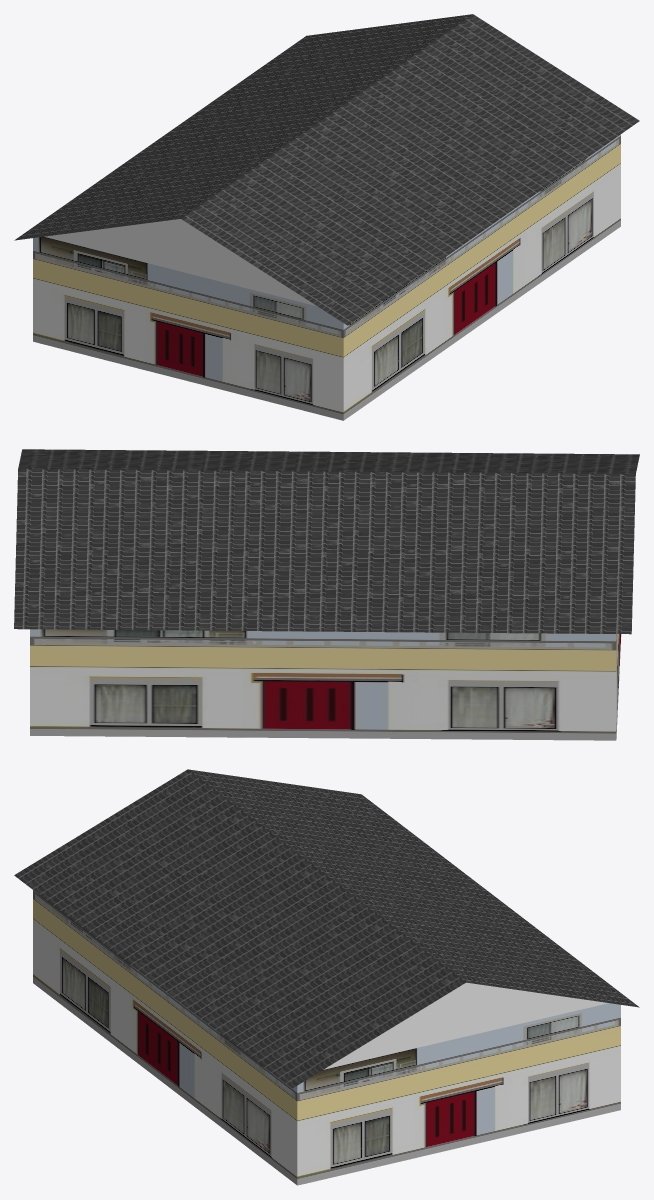
The picture shows the model from 3 angles, top to bottom: view 1: azimuth 30°, elevation 25°; view 2: azimuth 150°, elevation 25°; view 3: azimuth 270°, elevation 25°; orthographic projection. The views are drawn at different scales.
Parts seen in each view (by area): view 1: CityEngineMaterial_16_m, CityEngineMaterial_15_m, CityEngineMaterial_3_m; view 2: CityEngineMaterial_16_m, CityEngineMaterial_15_m; view 3: CityEngineMaterial_16_m, CityEngineMaterial_15_m, CityEngineMaterial_3_m.
Part boxes in pixels (bbox=[...]): CityEngineMaterial_16_m: bbox=[14, 14, 639, 325]; CityEngineMaterial_15_m: bbox=[33, 134, 620, 420]; CityEngineMaterial_3_m: bbox=[44, 219, 316, 306]; CityEngineMaterial_16_m: bbox=[14, 449, 639, 634]; CityEngineMaterial_15_m: bbox=[30, 629, 621, 740]; CityEngineMaterial_16_m: bbox=[14, 769, 639, 1088]; CityEngineMaterial_15_m: bbox=[33, 890, 620, 1185]; CityEngineMaterial_3_m: bbox=[324, 982, 608, 1069].
Bounding box in the file's own units: 47.78 × 12.92 × 42.95.
